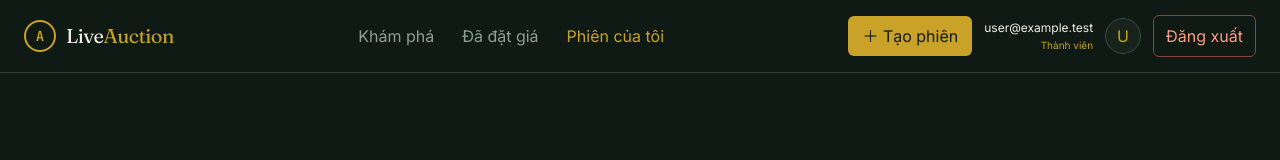
Test: Navbar auth behavior › handles failed logout without navigating or exposing the rejection
Click the button "Đăng xuất": (1205, 36) [1153, 15, 1256, 57]
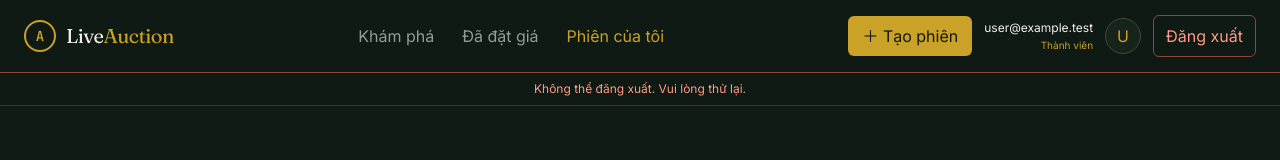
Result: the message shows "Không thể đăng xuất" at [534, 81, 746, 96]
